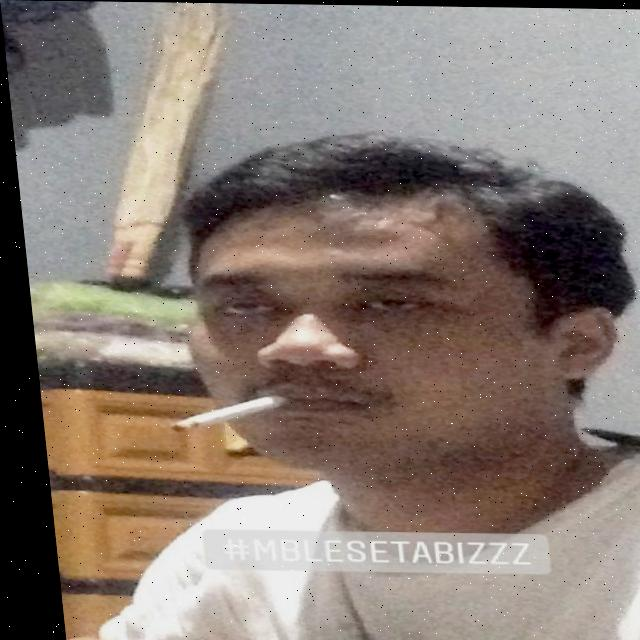cigarette: (158, 394, 279, 434)
